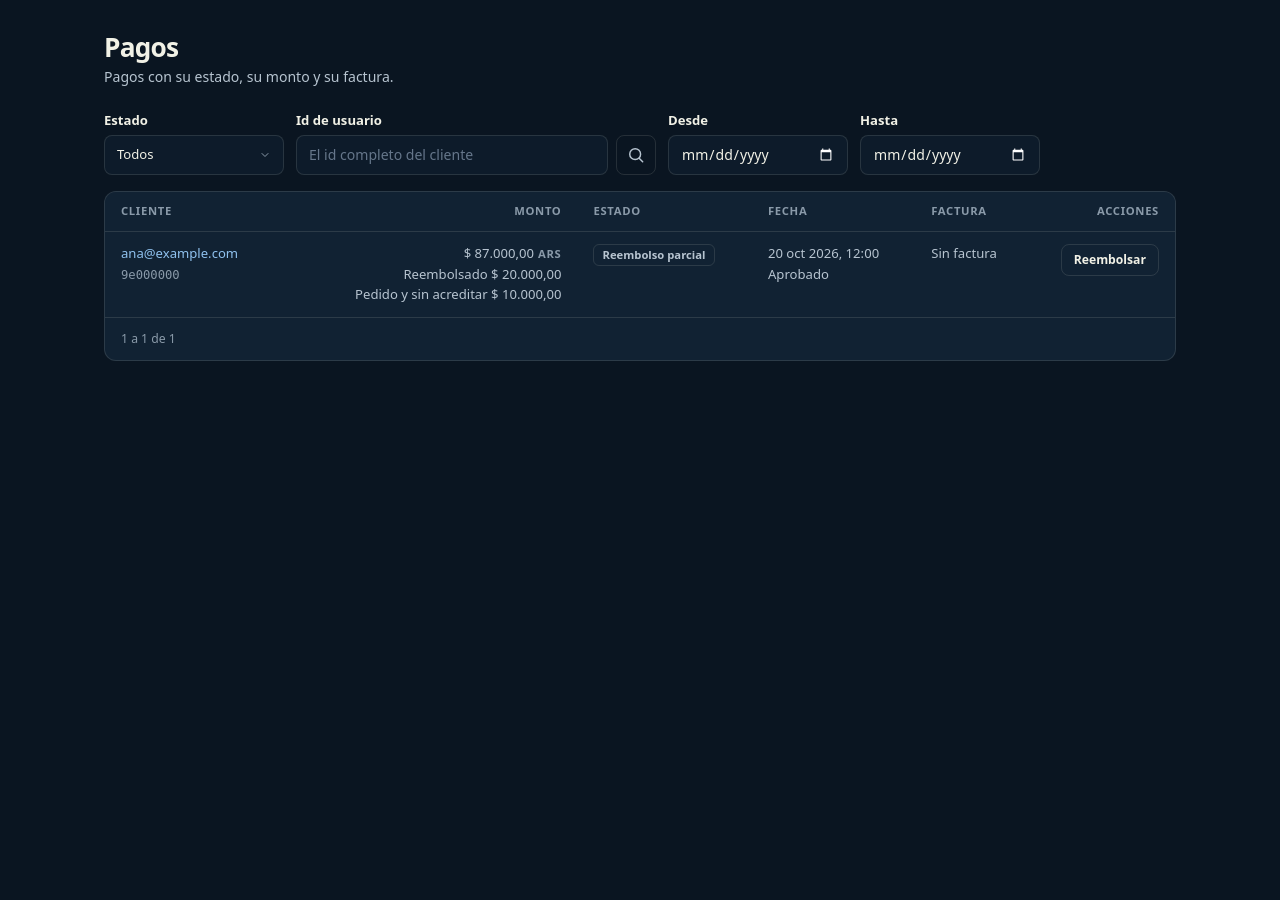
Scenario: payments screen › tells what Mercado Pago answered to the refund {"status":"REQUESTED","providerRefundId":null}
Click the button with aria-label "Reembolsar el pago 9e000000": click(1110, 260) [1061,244,1159,276]
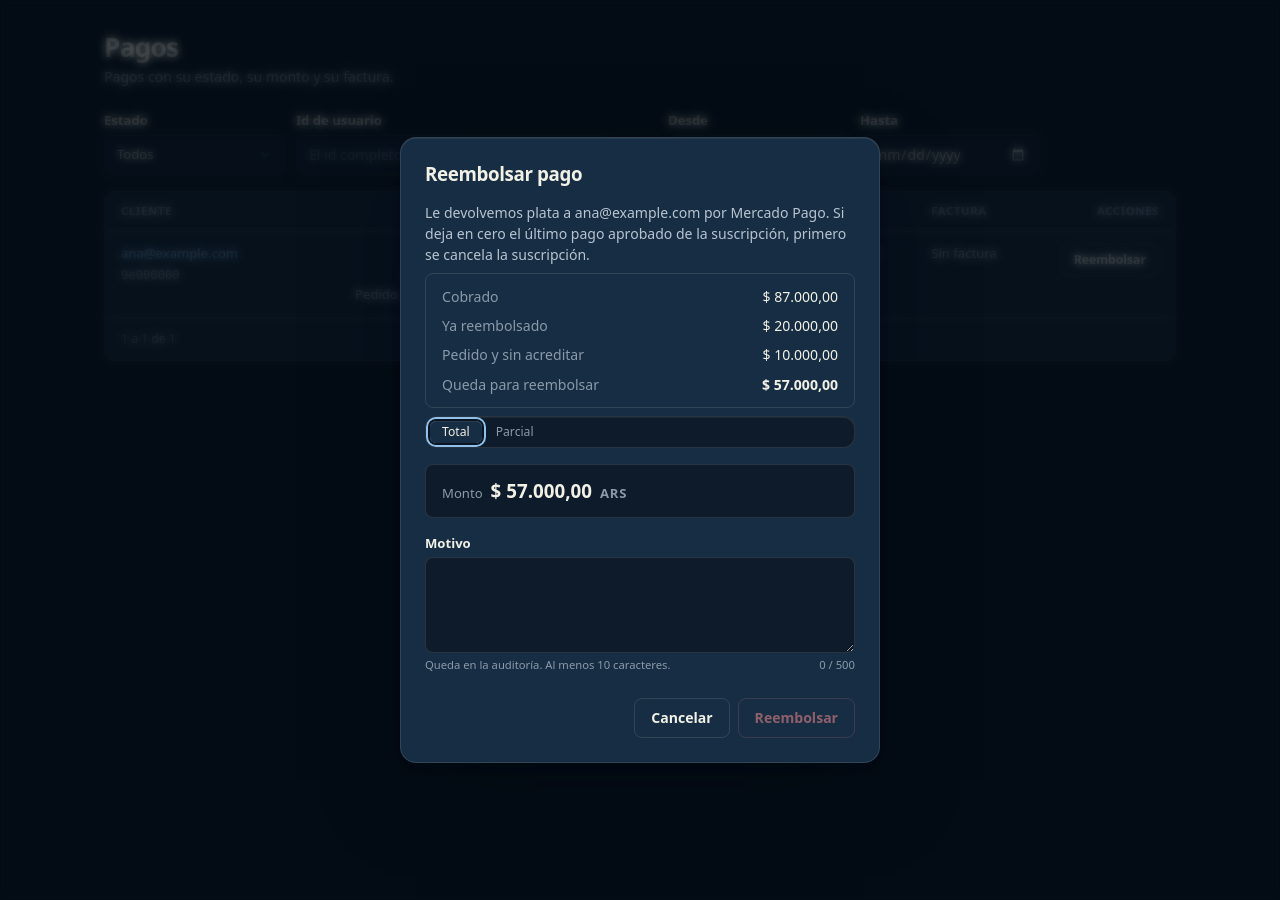
In the text box labelled "Motivo": (640, 606) [425,558,855,654], type "El cliente pidió la baja"
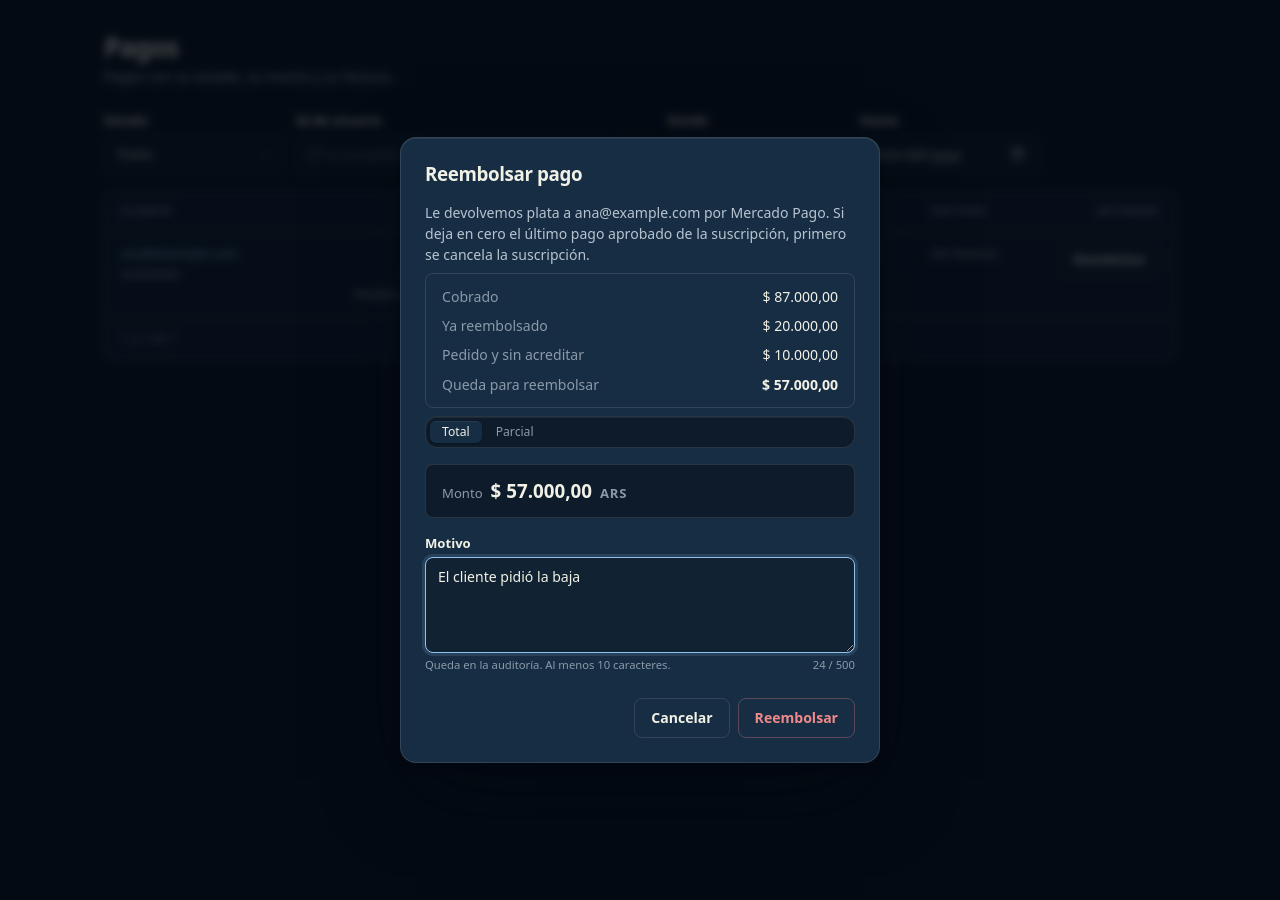
Click the button "Reembolsar": click(796, 718) [738,698,855,738]
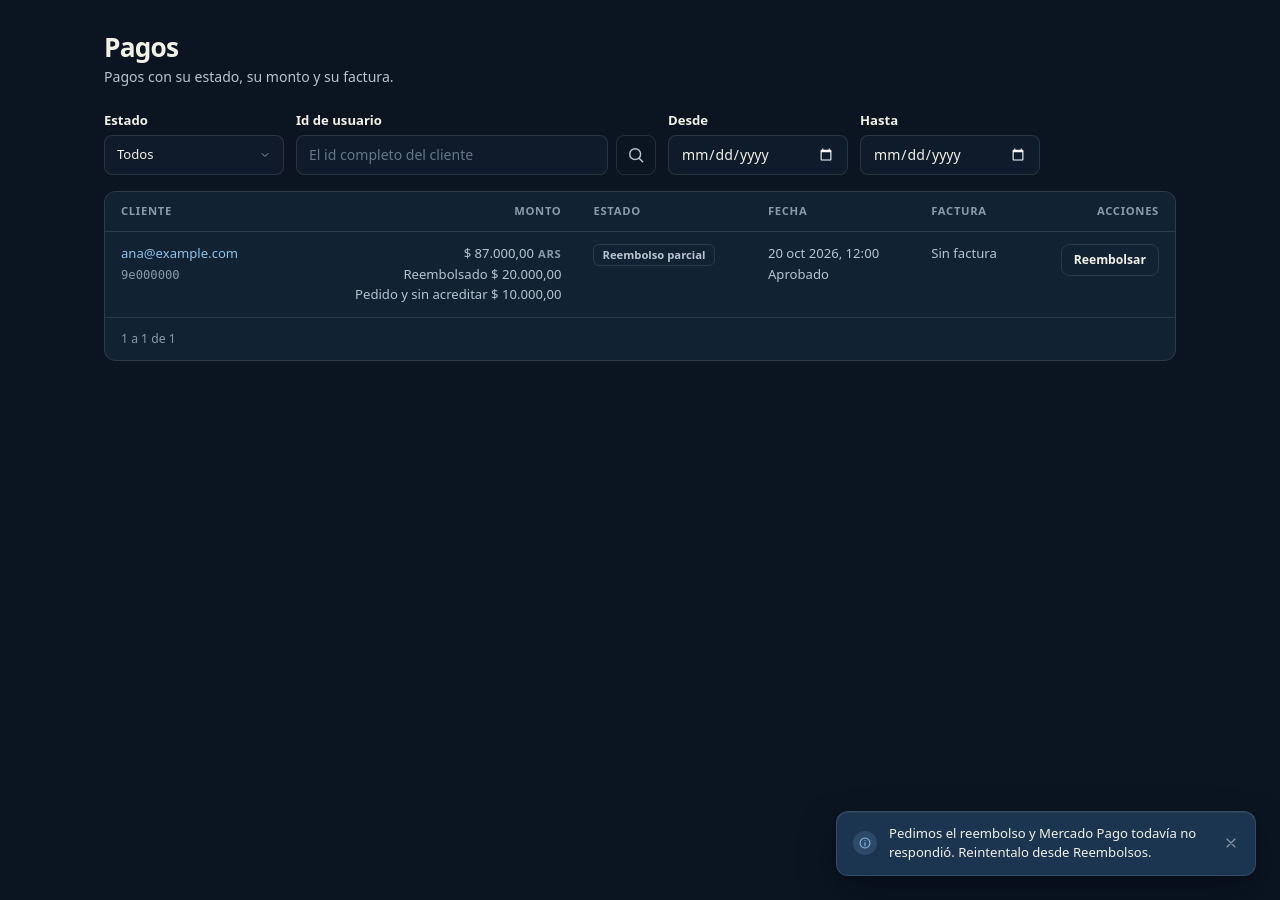
Expected: the text "Pedimos el reembolso y Mercado Pago todavía no respondió. Reintentalo desde Reembolsos." is shown, [889,824,1196,861]
